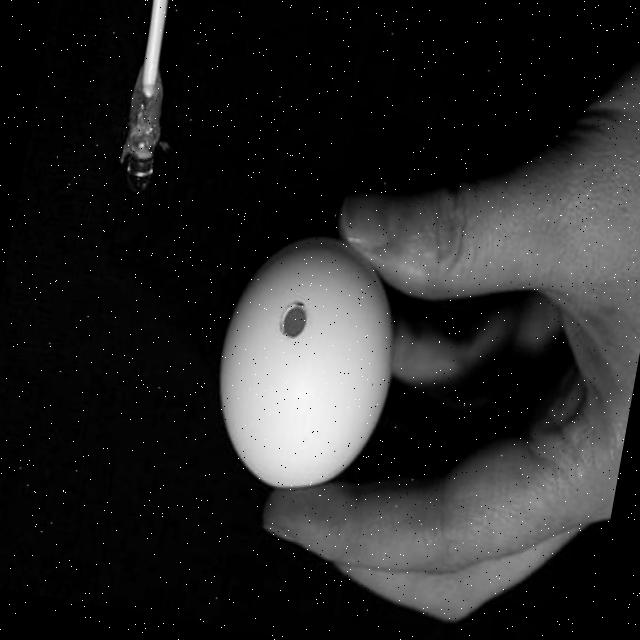ping-pong-ball: (198, 225, 412, 506)
